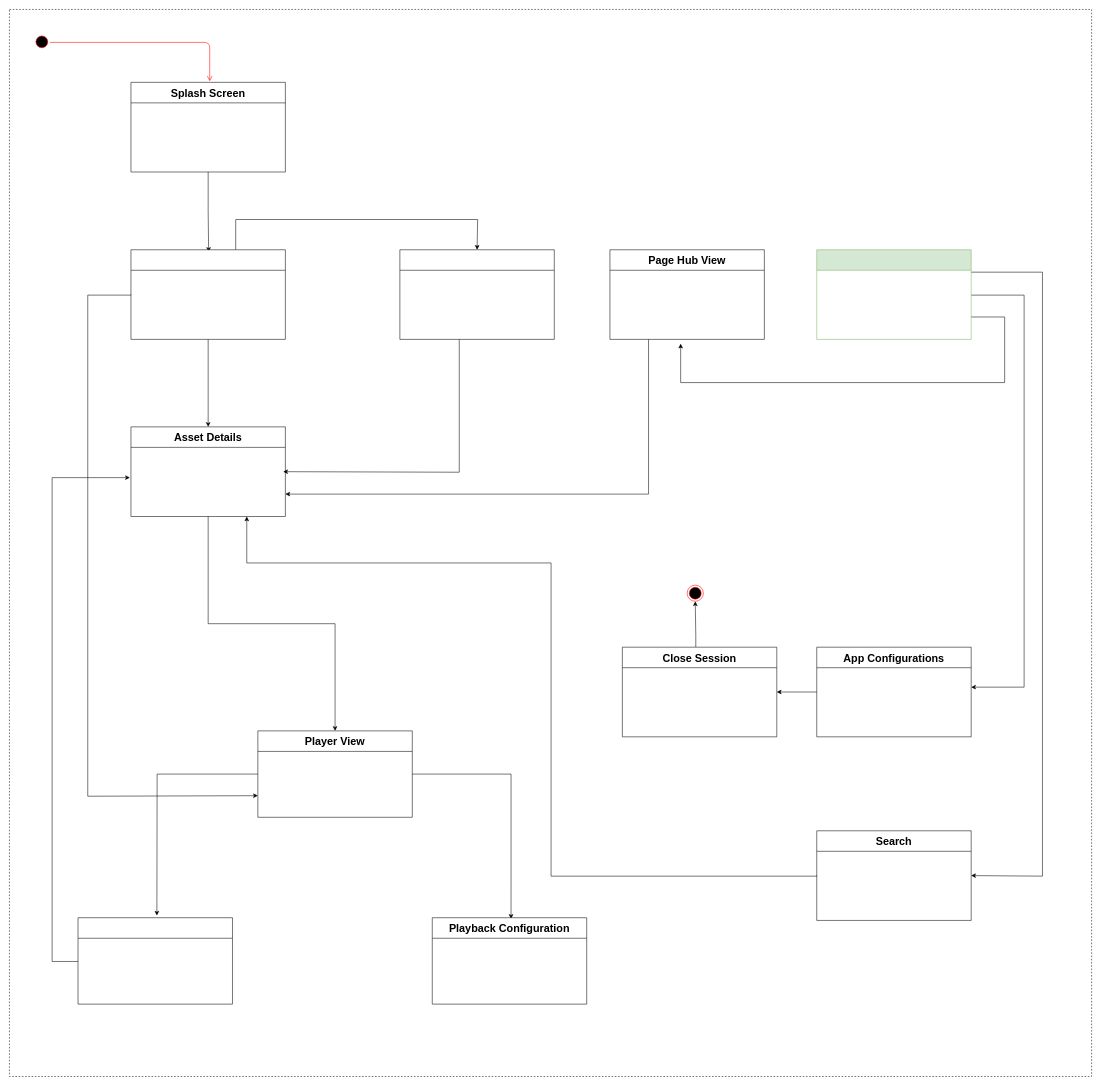
Some shapes in this 1101 by 1086 pixel diagram are drawn without their labels. Here are the shapes that lost their labels. From the top down, the centre of each, then its label:
pixel 207 294: Inicio
pixel 476 294: Collection View
pixel 893 294: Sidebar
pixel 154 960: Sub-Assets View
